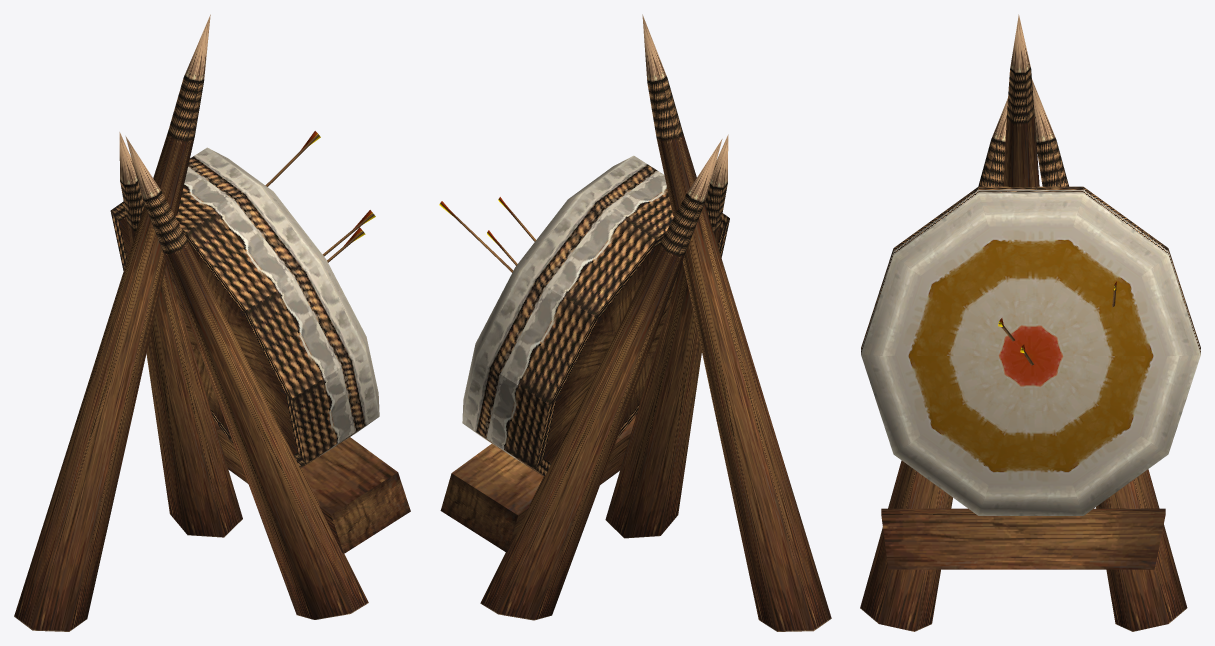
File: stormwindarcherytarget01.obj
3 views of the same model, side by side, from view 1: azimuth 30°, elevation 25°; view 2: azimuth 150°, elevation 25°; view 3: azimuth 270°, elevation 25° (orthographic).
Visible parts, largest first — view 1: stormwindarcherytarget01; view 2: stormwindarcherytarget01; view 3: stormwindarcherytarget01.
Boxes of the visible parts, <box> form: stormwindarcherytarget01: <box>14,14,410,631</box>; stormwindarcherytarget01: <box>439,14,831,631</box>; stormwindarcherytarget01: <box>860,14,1200,631</box>.
Bounding box in the file's own units: 2.94 × 4.72 × 2.51.
1 material, 1 textured.
